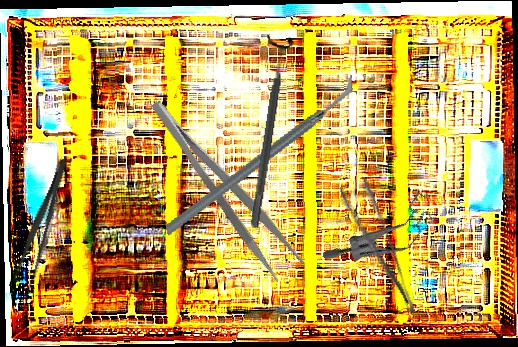Chopper: (140, 73, 379, 237)
Dressing Forceps: (146, 86, 306, 285), (337, 176, 418, 324), (6, 155, 76, 300)
Fixation Ring: (239, 32, 296, 231)
Speculum: (320, 164, 445, 297)
